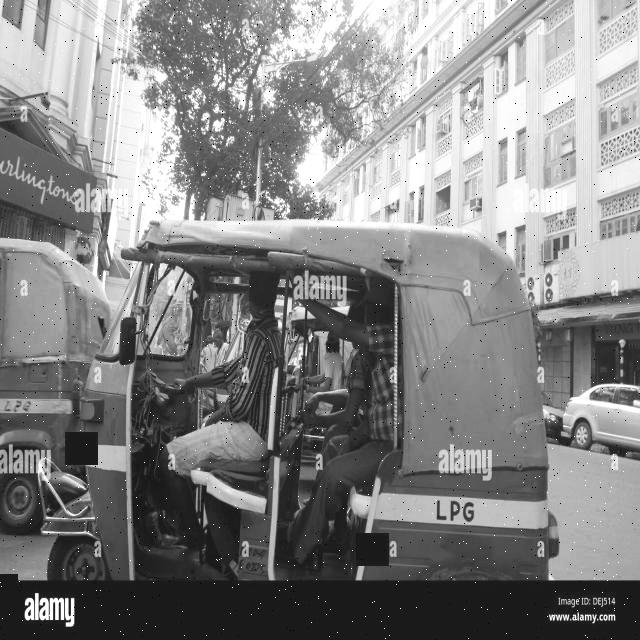Auto-Rickshaw: (38, 208, 554, 580), (0, 209, 132, 563)
